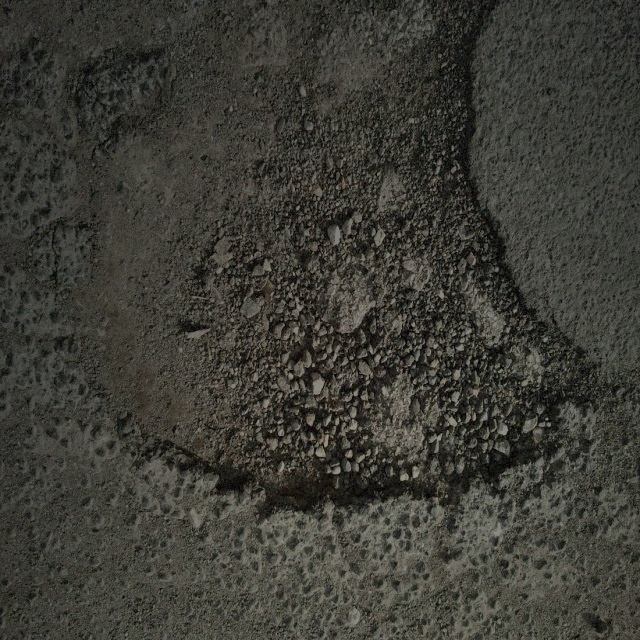pothole: (76, 46, 596, 551)
